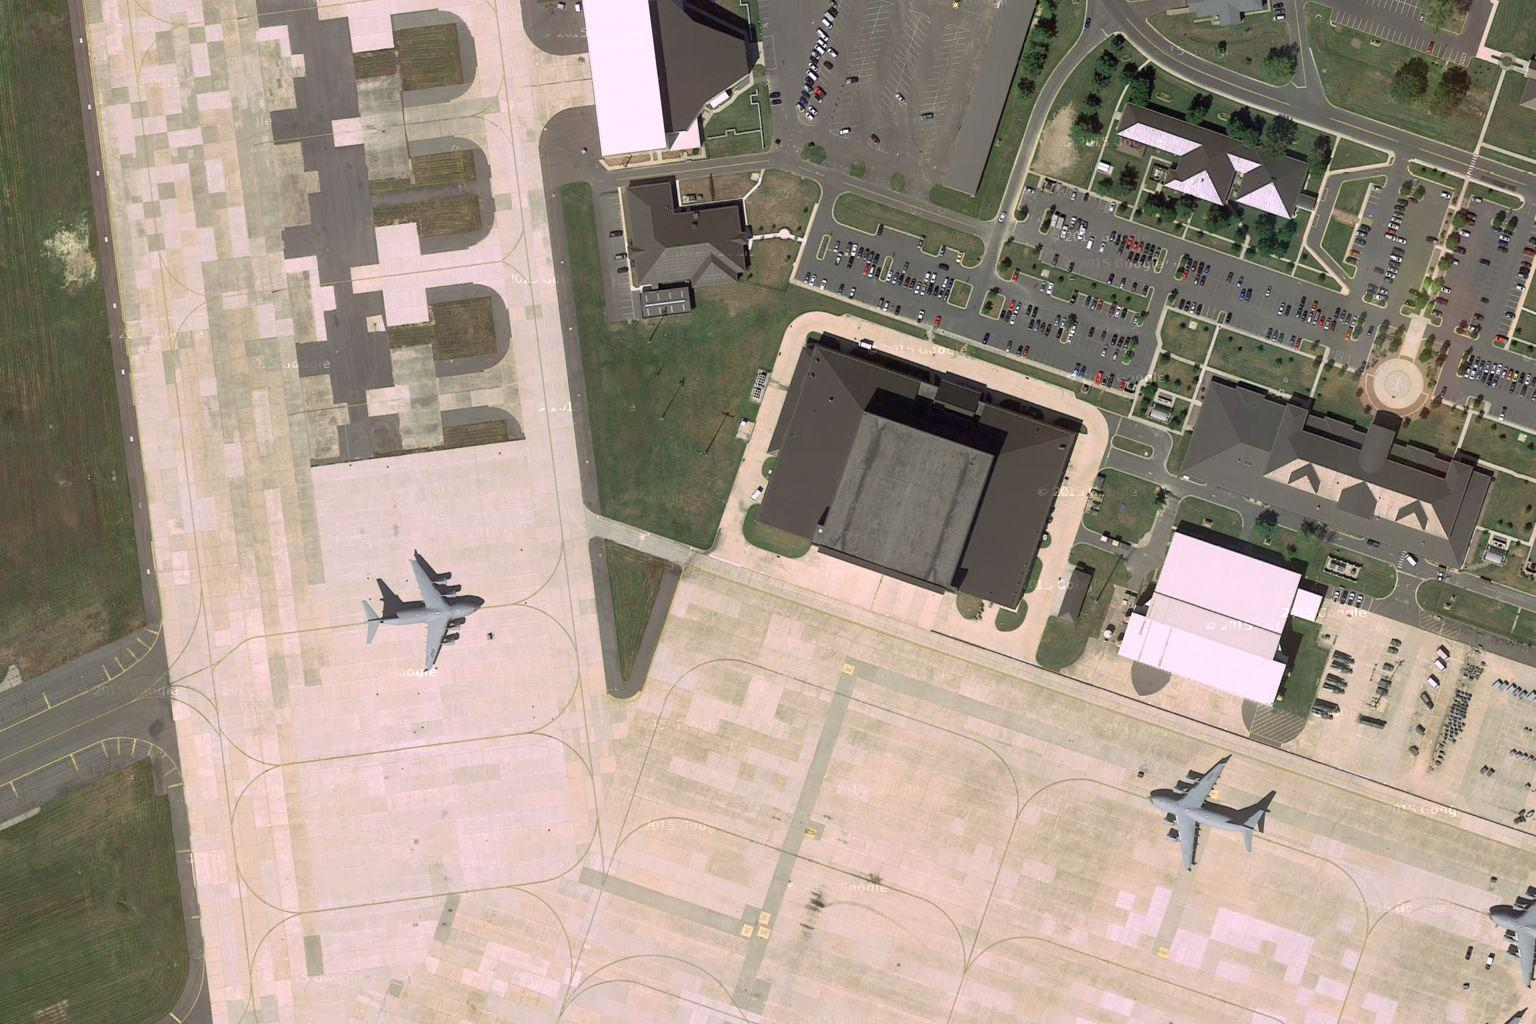C-17: (1141, 745, 1275, 871), (352, 557, 485, 677)
